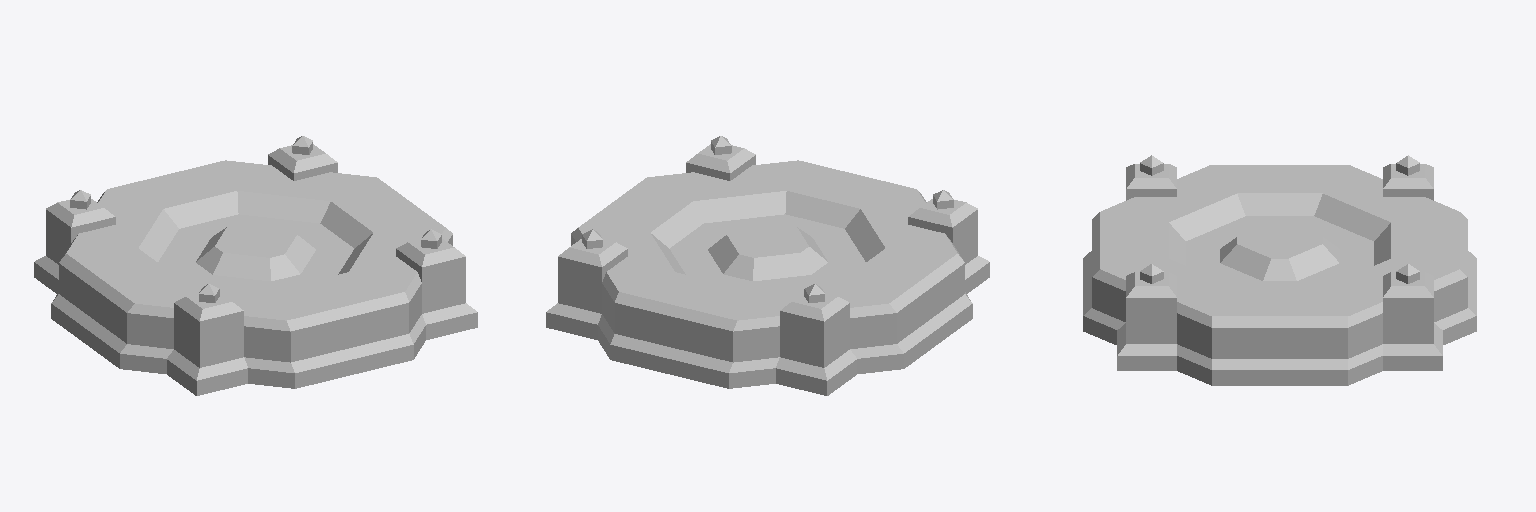
Rendered from circle_power_body.obj.
3 renders of one model, left to right at view 1: azimuth 30°, elevation 25°; view 2: azimuth 150°, elevation 25°; view 3: azimuth 270°, elevation 25°, orthographic.
Parts seen in each view (by area): view 1: Cube.001_Cube.038; view 2: Cube.001_Cube.038; view 3: Cube.001_Cube.038.
Part boxes in pixels (x1,y1,x2,y2): Cube.001_Cube.038: (34,136,477,395); Cube.001_Cube.038: (546,136,989,395); Cube.001_Cube.038: (1083,155,1476,385).
Size of the model in its own units: 2.88 by 0.75 by 2.88.